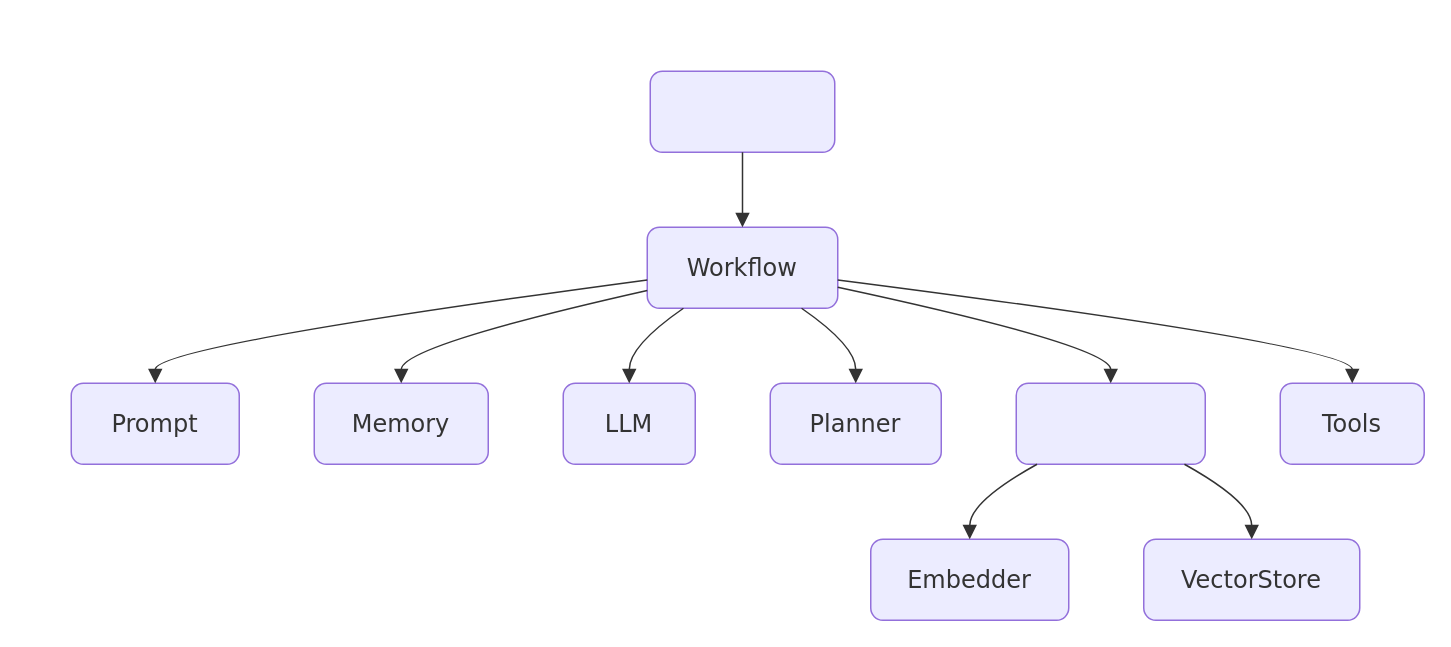
This 1451x647 diagram has some shape labels left out. Each missing label, with the centre of its shape:
"Assistant" goes at (x=742, y=111).
"Retriever" goes at (x=1110, y=423).
